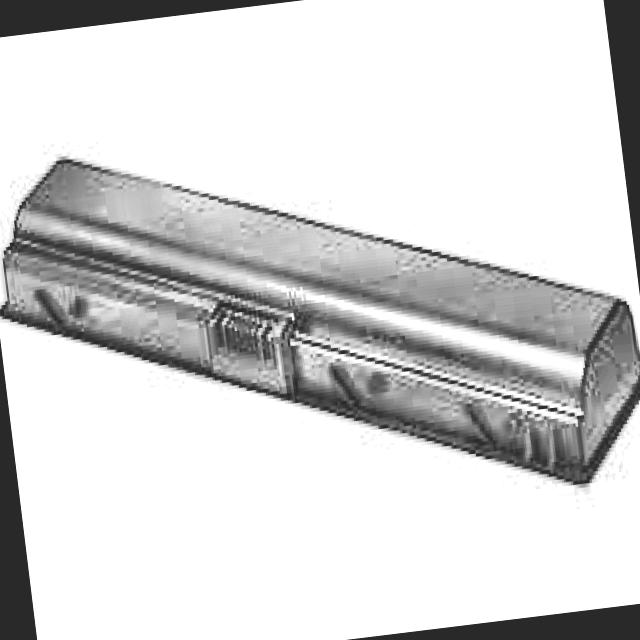Battery: (0, 100, 640, 539)
